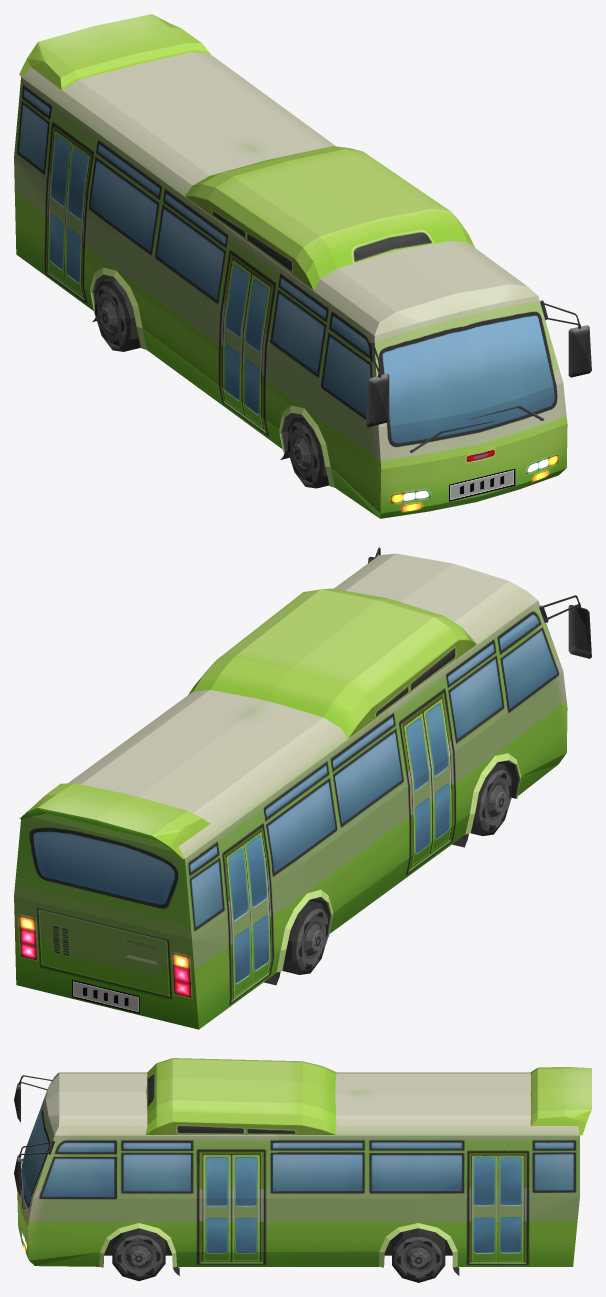
File: bus.glb
3 views of the same model, one above another, from view 1: azimuth 30°, elevation 25°; view 2: azimuth 150°, elevation 25°; view 3: azimuth 270°, elevation 25° (orthographic). The views are drawn at different scales.
Visible parts, largest first — view 1: Bus; view 2: Bus; view 3: Bus.
Boxes of the visible parts, x1=… form: Bus: x1=14, y1=14, x2=591, y2=518; Bus: x1=14, y1=547, x2=591, y2=1029; Bus: x1=14, y1=1058, x2=591, y2=1282.
Bounding box in the file's own units: 3.29 × 3.17 × 9.81.
1 material, 1 textured.
